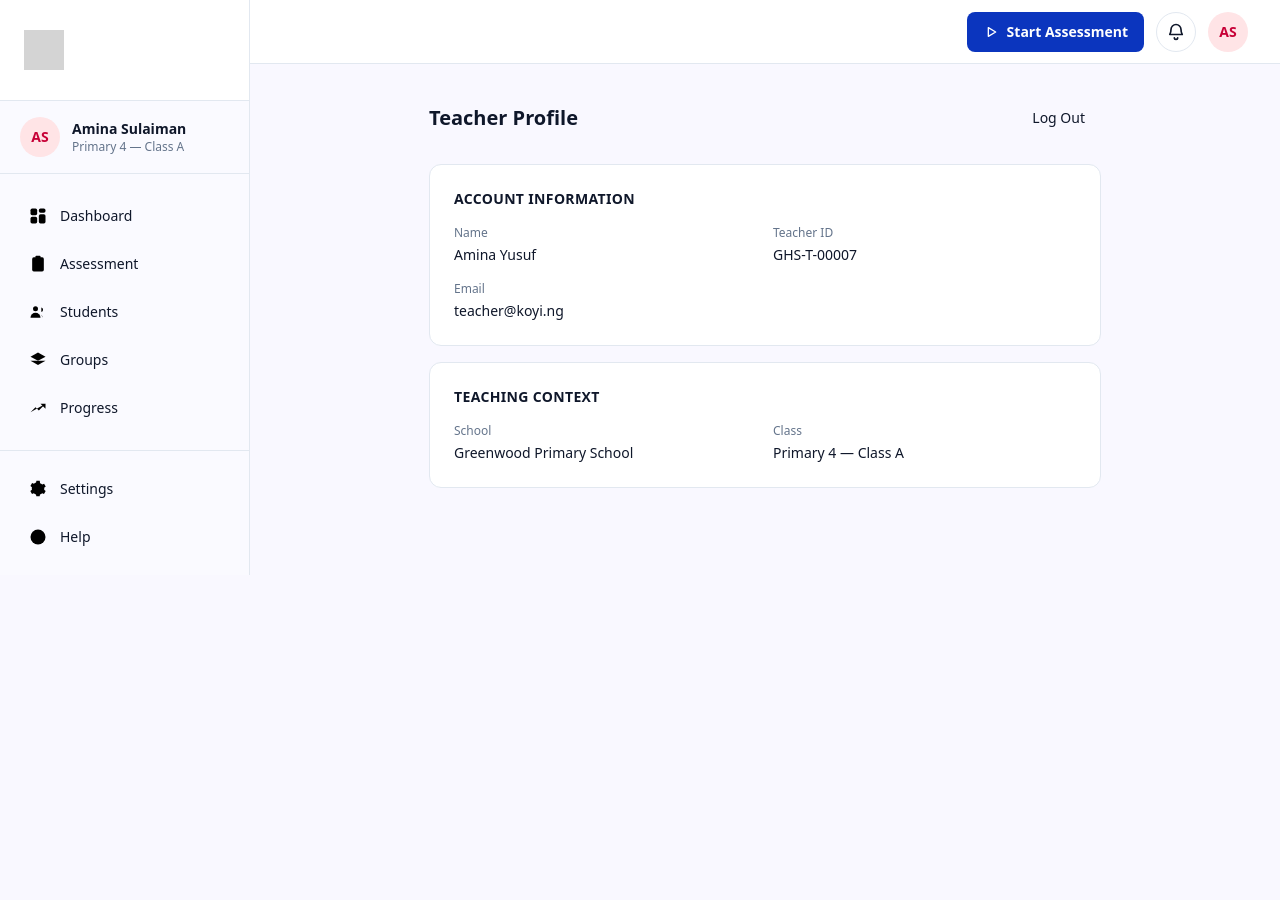
Test: ProfilePage › navigates to login on Log Out
The image size is (1280, 900).
Expected: the text "Amina Yusuf" is shown, [454,245,536,264]
Click the button "Log Out" at x=1059, y=118, box [1016,96,1101,140]
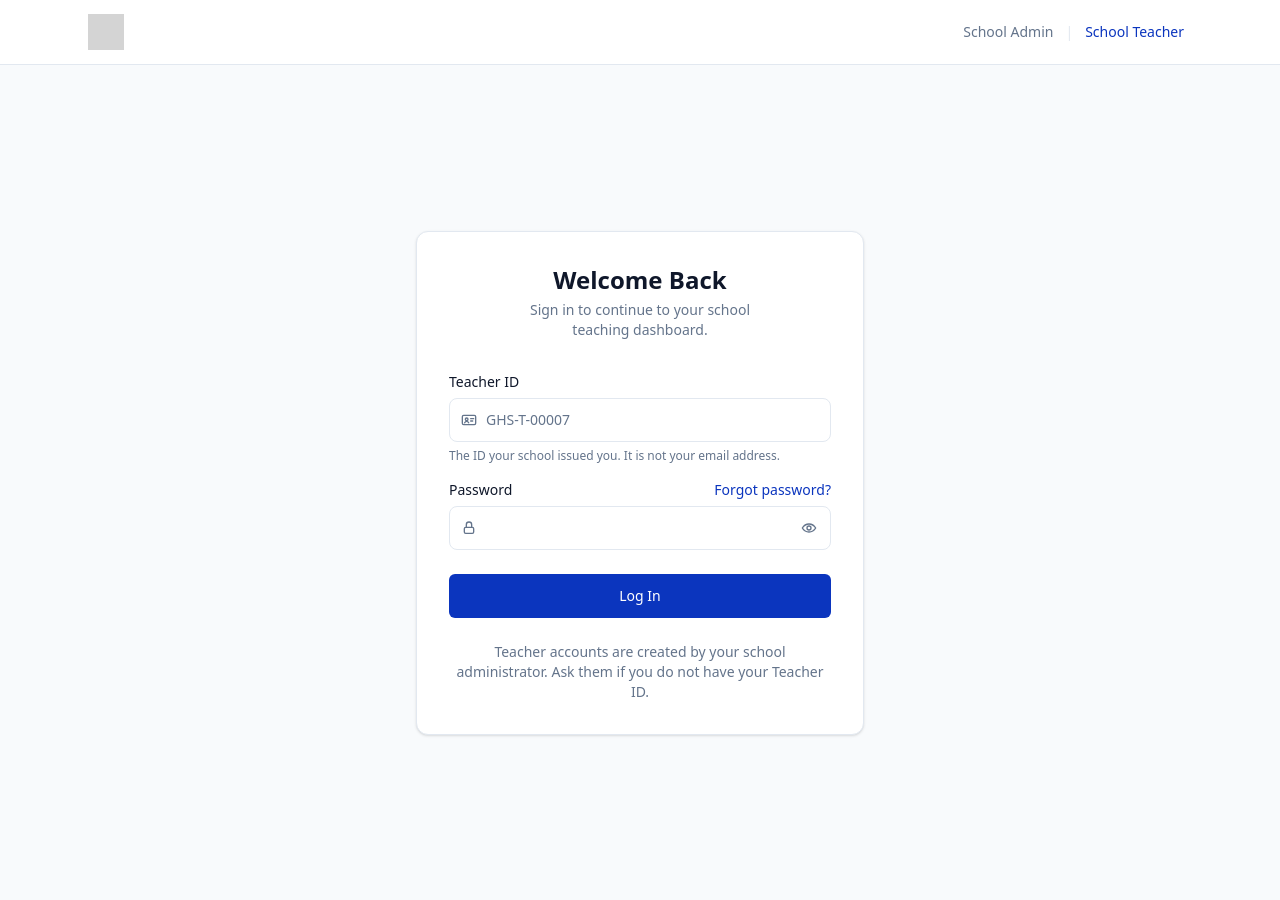
Expected: the heading "Welcome Back" is shown, [553,262,727,296]
